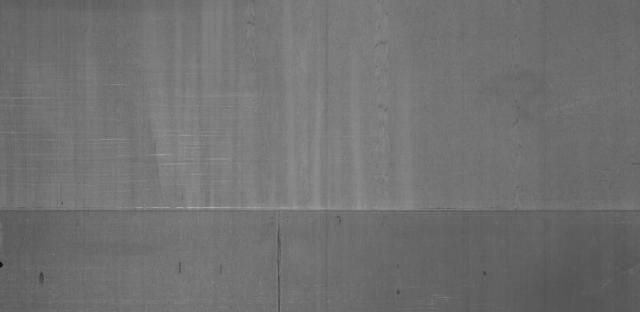welding_line: (2, 198, 640, 221)
